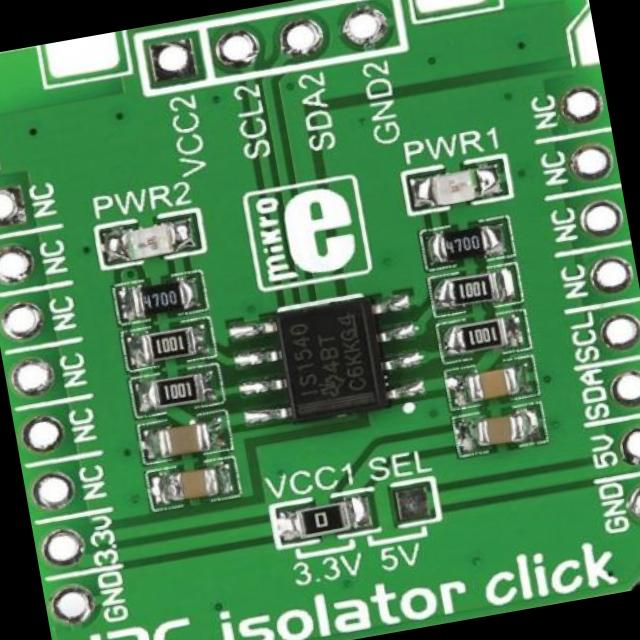IC: (246, 285, 404, 433)
LED: (99, 220, 185, 262), (423, 166, 492, 210)
capacitor: (458, 358, 526, 408), (462, 408, 530, 454), (156, 418, 218, 460), (173, 466, 230, 499)
resistor: (140, 370, 218, 412), (134, 322, 202, 368), (126, 277, 190, 321), (442, 270, 504, 313), (440, 226, 506, 266), (284, 501, 358, 536), (462, 318, 518, 354)
